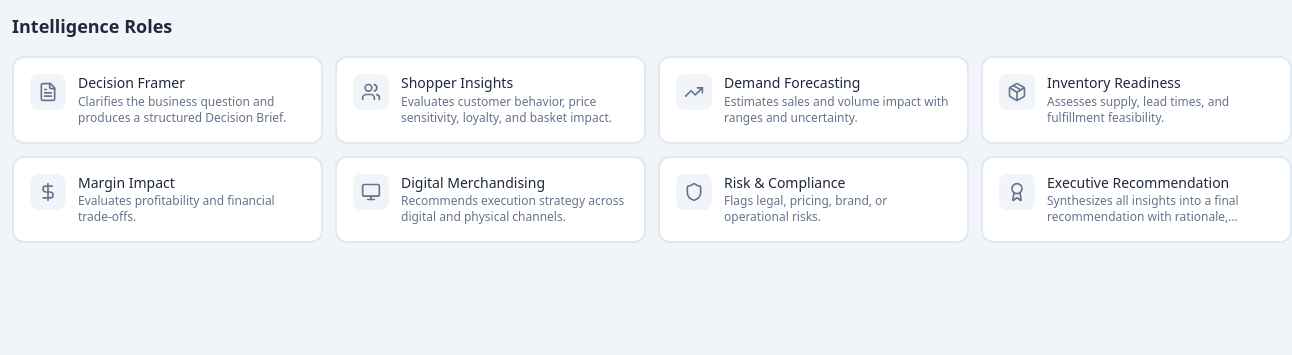
Test case: IntelligenceGrid › hover expansion behavior › shows output type pill on hover
The image size is (1292, 355).
// Find and hover the Shopper Insights card
Hover over the text "Shopper Insights" at [490, 100], box [335, 56, 646, 144]
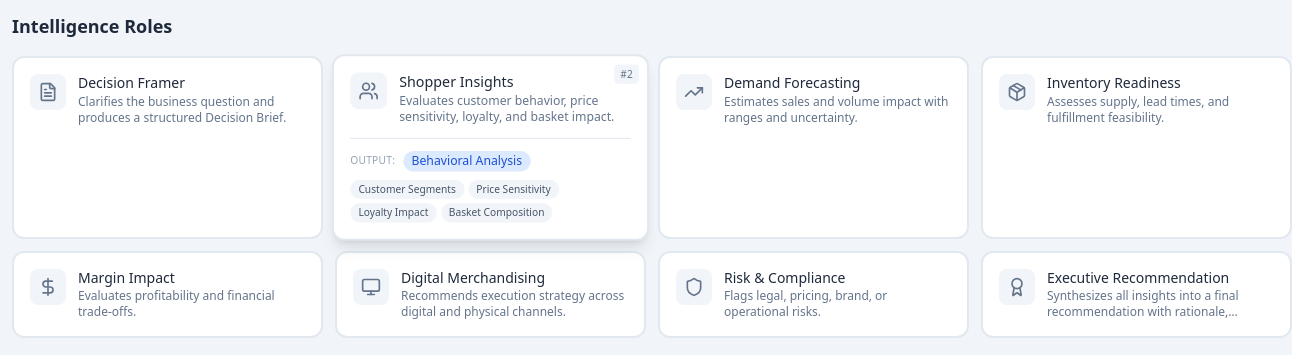
Now the text "Behavioral Analysis" is shown, box [403, 151, 530, 171]
